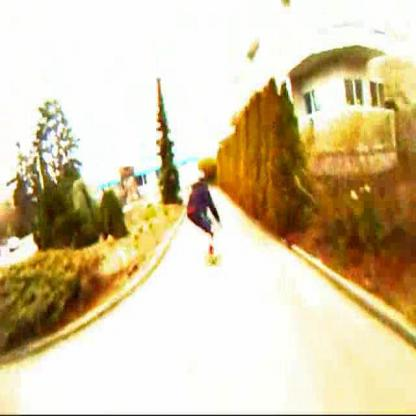other: (286, 43, 375, 282), (181, 156, 226, 273)
